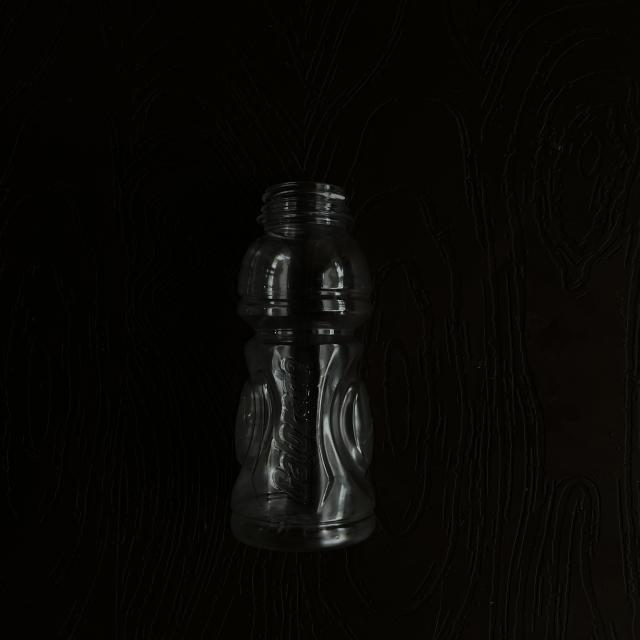PET_ClearBottle: (224, 175, 407, 548)
